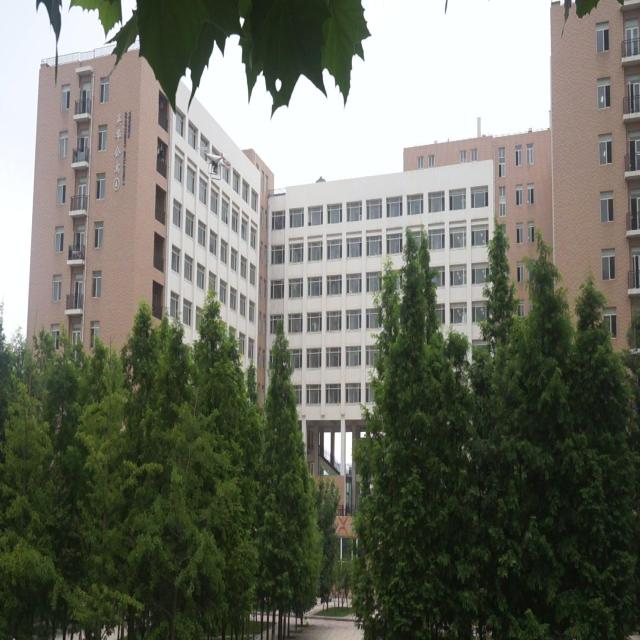drone: (204, 148, 228, 182)
